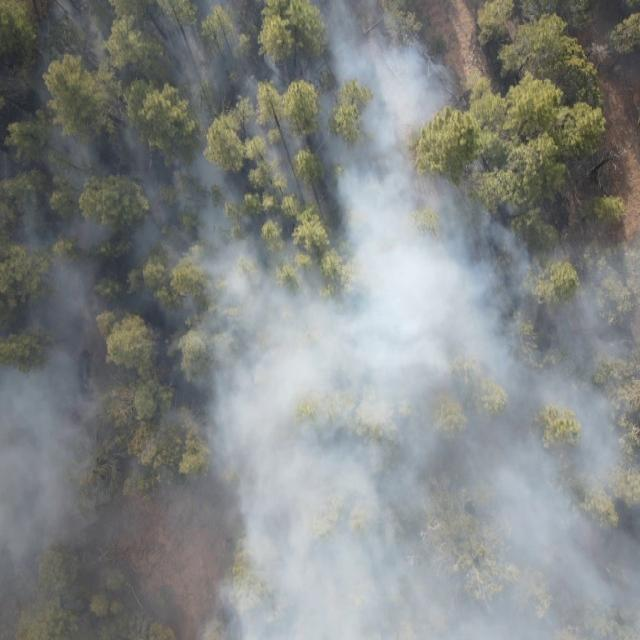smoke: (0, 0, 462, 640), (463, 189, 640, 640)
